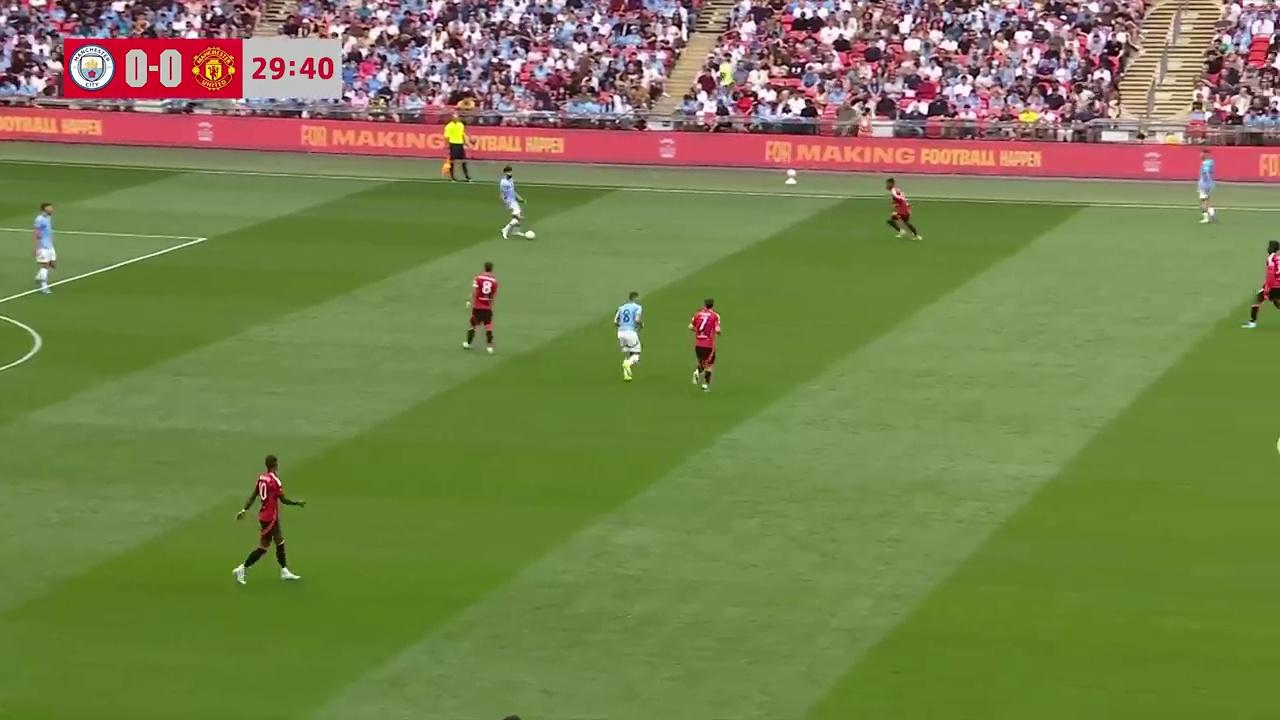ball: (524, 226, 536, 240)
player: (232, 454, 305, 587), (462, 262, 499, 352), (1242, 242, 1280, 328), (688, 298, 721, 391), (613, 292, 643, 381), (498, 167, 533, 239), (32, 202, 57, 292), (886, 181, 922, 241), (1196, 155, 1217, 222)
referee: (442, 110, 474, 184)
